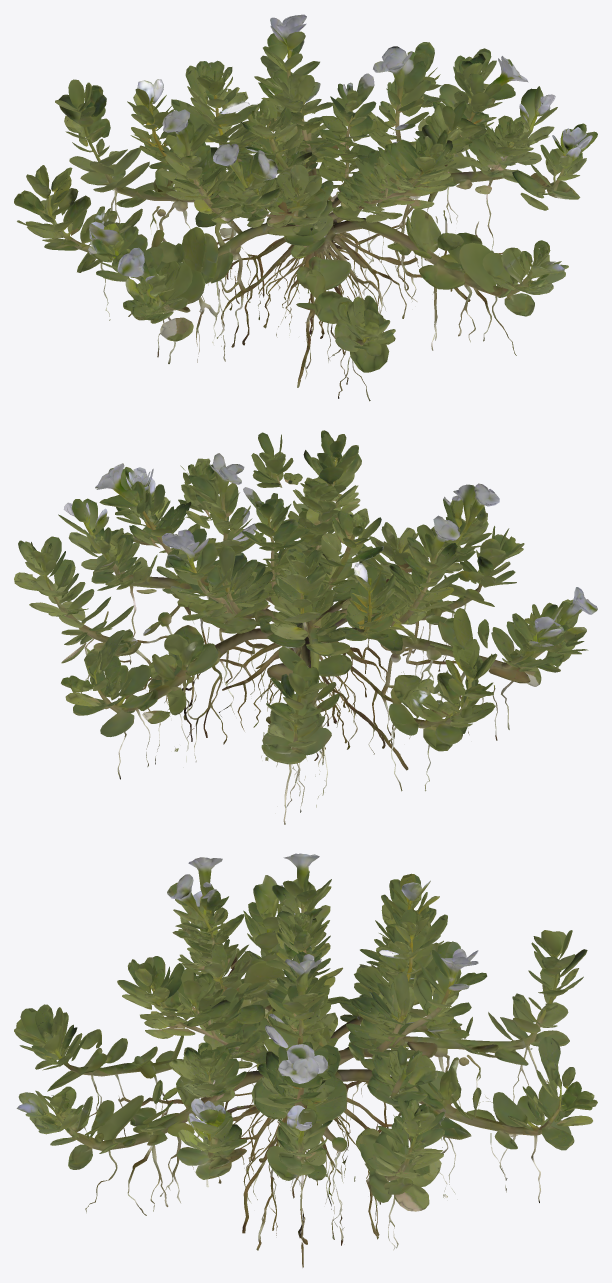
File: brahmi3d.glb
The picture shows the model from 3 angles, top to bottom: view 1: azimuth 30°, elevation 25°; view 2: azimuth 150°, elevation 25°; view 3: azimuth 270°, elevation 25°; orthographic projection. The views are drawn at different scales.
Parts seen in each view (by area): view 1: tmpug6v9jdbobj; view 2: tmpug6v9jdbobj; view 3: tmpug6v9jdbobj.
Boxes of the visible parts, left/top/right/bottom form: tmpug6v9jdbobj: left=14, top=14, right=597, bottom=401; tmpug6v9jdbobj: left=14, top=430, right=597, bottom=824; tmpug6v9jdbobj: left=14, top=853, right=597, bottom=1267.
Bounding box in the file's own units: 0.9995 × 0.5068 × 0.9839.
1 material, 1 textured.
